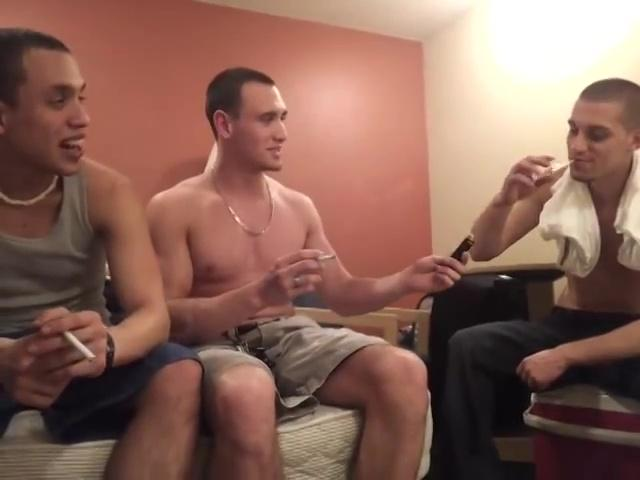cigarette: (62, 328, 97, 364), (545, 159, 581, 175), (308, 252, 343, 266)
